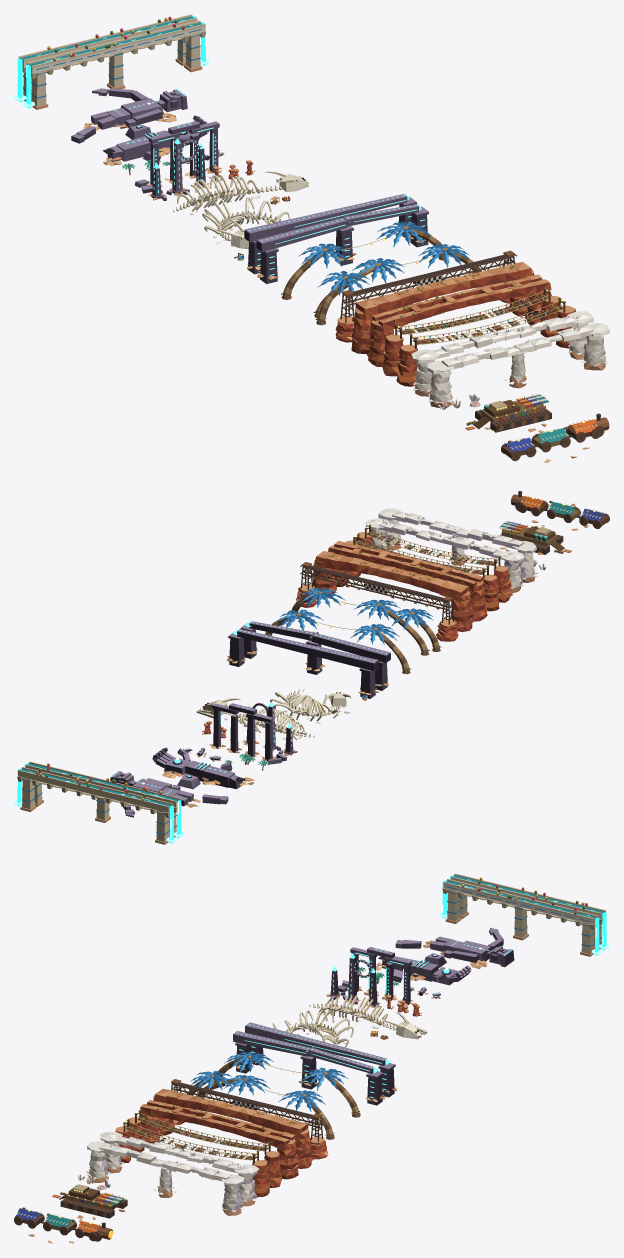
The model's file is set_kessra.glb.
3 renders of one model, top to bottom at view 1: azimuth 30°, elevation 25°; view 2: azimuth 150°, elevation 25°; view 3: azimuth 330°, elevation 25°, orthographic. The views are drawn at different scales.
Parts seen in each view (by area): view 1: kessra_aqueduct_1.001, kessra_rock_bridge_1.001, kessra_salt_arch_1.001, kessra_rock_bridge_0.001, kessra_obelisk_span_1.001, kessra_salt_arch_0.001, kessra_colossus_0.001, kessra_obelisk_span_0.001, kessra_race_gantry_0.001, kessra_rope_bridge_0.001, kessra_aqueduct_0.001, kessra_rope_bridge_1.001 (+11 smaller); view 2: kessra_aqueduct_0.001, kessra_rock_bridge_0.001, kessra_rock_bridge_1.001, kessra_race_gantry_0.001, kessra_salt_arch_1.001, kessra_obelisk_span_0.001, kessra_obelisk_span_1.001, kessra_salt_arch_0.001, kessra_colossus_1.001, kessra_aqueduct_1.001, kessra_henge_0.001, kessra_rope_bridge_1.001 (+10 smaller); view 3: kessra_aqueduct_1.001, kessra_rock_bridge_1.001, kessra_salt_arch_1.001, kessra_rock_bridge_0.001, kessra_obelisk_span_1.001, kessra_salt_arch_0.001, kessra_obelisk_span_0.001, kessra_colossus_0.001, kessra_race_gantry_0.001, kessra_rope_bridge_0.001, kessra_aqueduct_0.001, kessra_rope_bridge_1.001 (+10 smaller).
Boxes of the visible parts, x1,y1,x2,y2 form: kessra_aqueduct_1.001: (22, 20, 209, 109); kessra_rock_bridge_1.001: (366, 274, 551, 366); kessra_salt_arch_1.001: (427, 323, 609, 407); kessra_rock_bridge_0.001: (351, 261, 534, 353); kessra_obelisk_span_1.001: (256, 204, 428, 283); kessra_salt_arch_0.001: (411, 311, 593, 396); kessra_colossus_0.001: (71, 88, 187, 143); kessra_obelisk_span_0.001: (244, 194, 416, 274); kessra_race_gantry_0.001: (335, 250, 517, 342); kessra_rope_bridge_0.001: (382, 287, 561, 376); kessra_aqueduct_0.001: (14, 14, 200, 102); kessra_rope_bridge_1.001: (396, 297, 575, 386); kessra_aqueduct_0.001: (14, 767, 177, 844); kessra_rock_bridge_0.001: (313, 551, 473, 631); kessra_rock_bridge_1.001: (328, 541, 487, 621); kessra_race_gantry_0.001: (295, 562, 458, 641); kessra_salt_arch_1.001: (378, 508, 538, 582); kessra_obelisk_span_0.001: (226, 629, 379, 698); kessra_obelisk_span_1.001: (240, 621, 390, 690); kessra_salt_arch_0.001: (364, 518, 524, 593); kessra_colossus_1.001: (152, 747, 254, 789); kessra_aqueduct_1.001: (21, 761, 184, 838); kessra_henge_0.001: (209, 703, 287, 764); kessra_rope_bridge_1.001: (355, 524, 512, 602); kessra_aqueduct_1.001: (439, 879, 602, 956); kessra_rock_bridge_1.001: (138, 1100, 299, 1179); kessra_salt_arch_1.001: (86, 1141, 245, 1215); kessra_rock_bridge_0.001: (153, 1089, 313, 1168); kessra_obelisk_span_1.001: (233, 1031, 385, 1105); kessra_salt_arch_0.001: (99, 1131, 259, 1206); kessra_obelisk_span_0.001: (245, 1022, 396, 1097); kessra_colossus_0.001: (395, 927, 514, 969); kessra_race_gantry_0.001: (171, 1079, 328, 1159); kessra_rope_bridge_0.001: (125, 1110, 282, 1187); kessra_aqueduct_0.001: (447, 873, 609, 950); kessra_rope_bridge_1.001: (115, 1119, 269, 1196).
Bounding box in the file's own units: 99 × 30.1 × 472.
